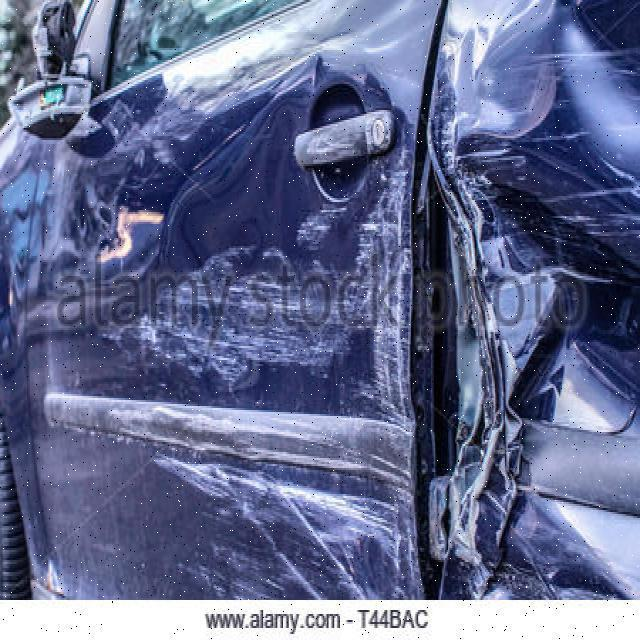doorouter-dent: (59, 86, 427, 608)
